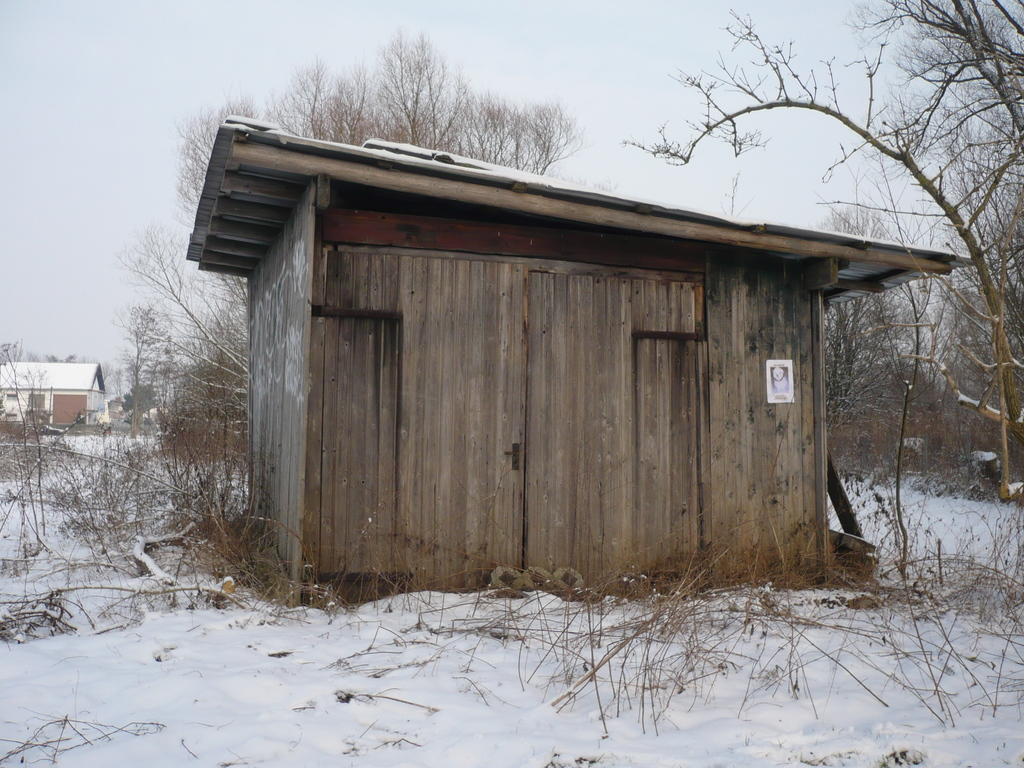Tree: (621, 0, 1024, 499), (113, 28, 592, 435)
